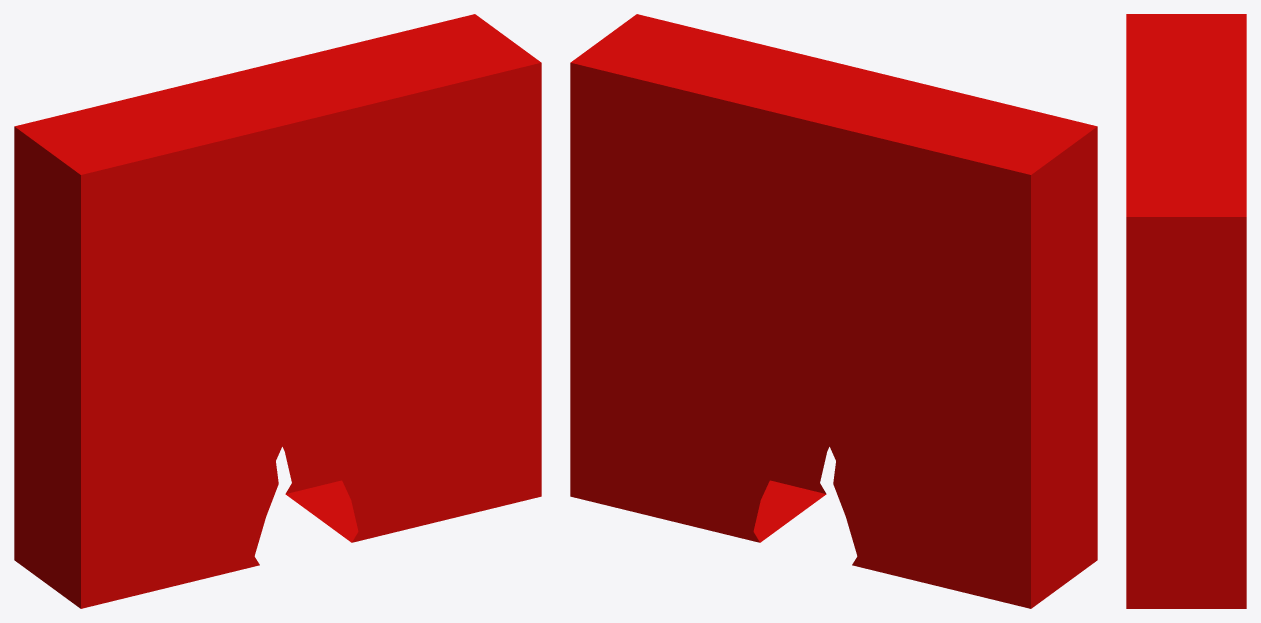
3 renders of one model, left to right at view 1: azimuth 30°, elevation 25°; view 2: azimuth 150°, elevation 25°; view 3: azimuth 270°, elevation 25°, orthographic. The views are drawn at different scales.
Visible parts, largest first — view 1: h2.001; view 2: h2.001; view 3: h2.001.
Part boxes in pixels (x1,y1,x2,y2): h2.001: (14,14,541,608); h2.001: (570,14,1097,608); h2.001: (1126,14,1246,608).
Size of the model in its own units: 2 by 1.8 by 0.5.
